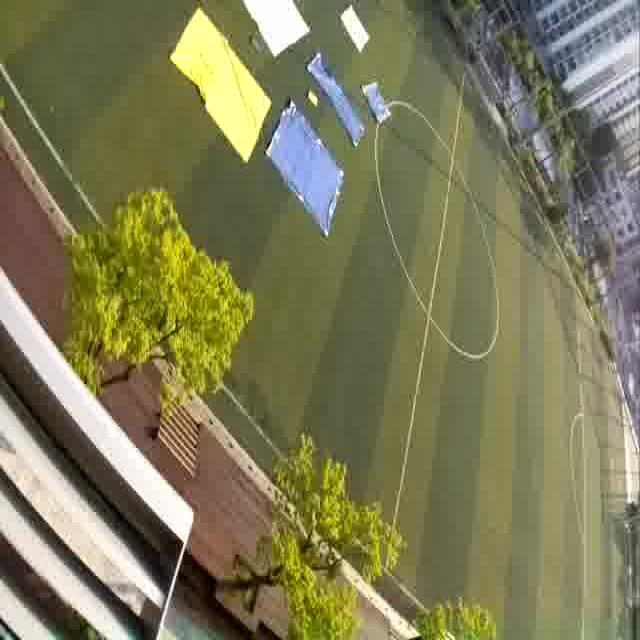danger: (273, 124, 338, 211), (360, 78, 395, 124), (324, 75, 349, 125)
safety: (242, 0, 312, 57), (334, 4, 377, 55)
warning: (183, 31, 253, 140)
